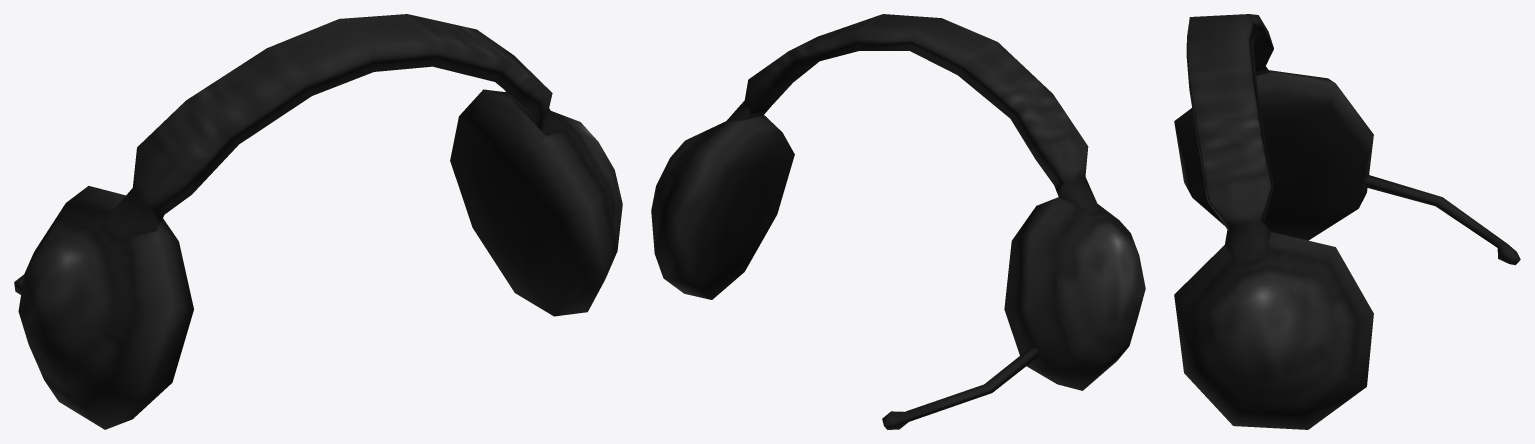
File: headphone3.glb
3 renders of one model, left to right at view 1: azimuth 30°, elevation 25°; view 2: azimuth 150°, elevation 25°; view 3: azimuth 270°, elevation 25°, orthographic. The views are drawn at different scales.
Parts seen in each view (by area): view 1: headphone3; view 2: headphone3; view 3: headphone3.
Part boxes in pixels (<box>): headphone3: <box>14,14,622,429</box>; headphone3: <box>651,14,1145,429</box>; headphone3: <box>1174,14,1520,429</box>.
Bounding box in the file's own units: 0.4257 × 0.252 × 0.2652.
1 material, 1 textured.
